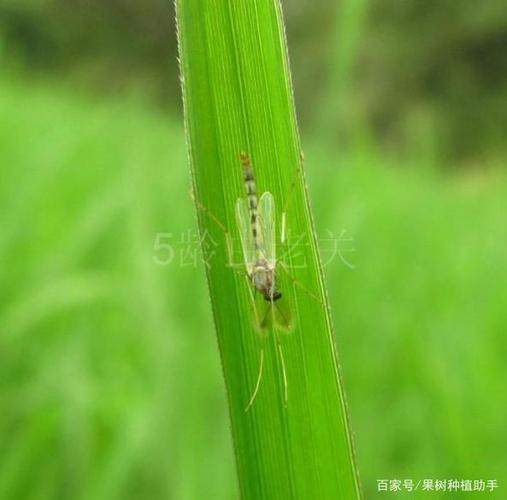Cecidomyiidae: (189, 148, 334, 413)
